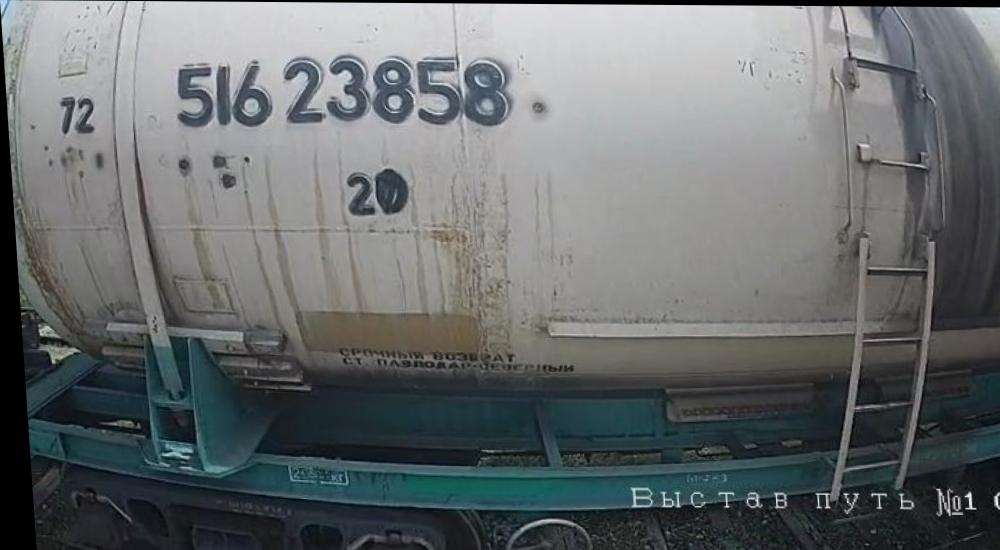Wagon-number: (167, 49, 519, 135)
